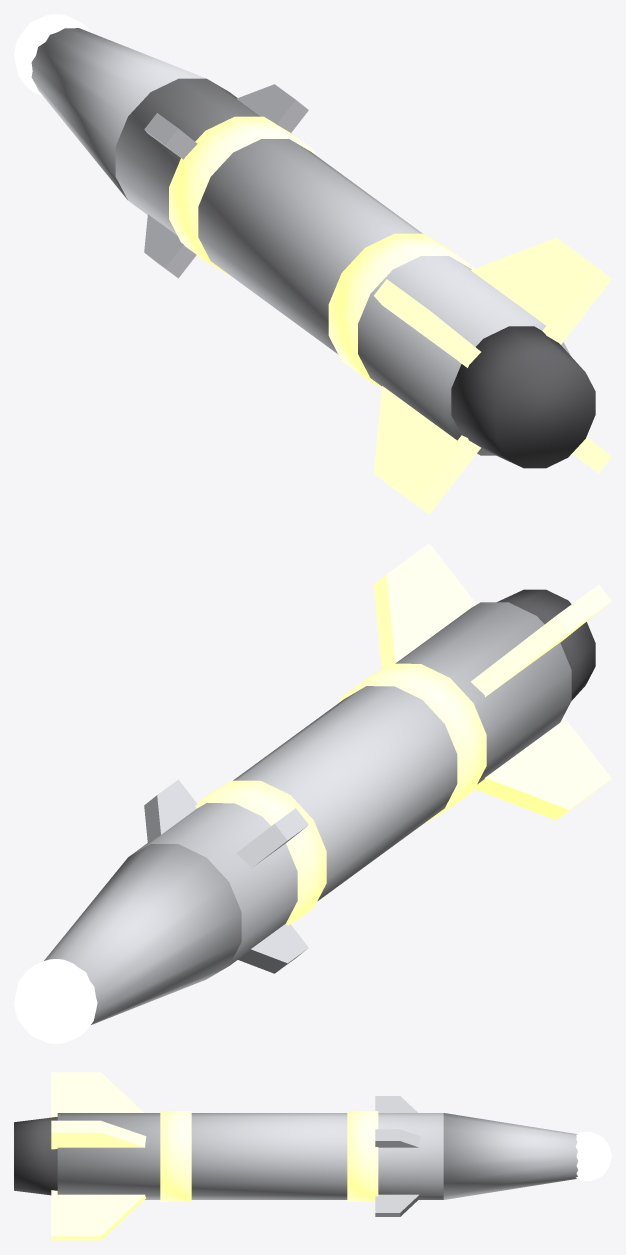
File: rakete_zielsuch.glb
3 renders of one model, top to bottom at view 1: azimuth 30°, elevation 25°; view 2: azimuth 150°, elevation 25°; view 3: azimuth 270°, elevation 25°, orthographic. The views are drawn at different scales.
Visible parts, largest first — view 1: Rumpf, Duese, Nase, Flosse0, Flosse2, Band2, Band1, Flosse1, Sucherkopf, Flosse0.001, Flosse2.001, Flosse1.001 (+1 smaller); view 2: Rumpf, Nase, Flosse0, Flosse2, Band2, Sucherkopf, Band1, Flosse1, Duese, Flosse0.001, Flosse2.001, Flosse1.001; view 3: Rumpf, Nase, Flosse3, Duese, Flosse1, Band2, Band1, Flosse0, Sucherkopf, Flosse3.001, Flosse0.001, Flosse1.001.
Part boxes in pixels (x1,y1,x2,y2): Rumpf: (115, 78, 570, 455); Duese: (451, 326, 595, 468); Nase: (31, 28, 206, 199); Flosse0: (471, 237, 611, 344); Flosse2: (373, 386, 480, 514); Band2: (328, 233, 474, 388); Band1: (169, 116, 316, 277); Flosse1: (374, 279, 480, 367); Sucherkopf: (14, 14, 89, 96); Flosse0.001: (236, 84, 308, 132); Flosse2.001: (144, 214, 196, 278); Flosse1.001: (144, 113, 197, 159); Rumpf: (130, 602, 571, 965); Nase: (44, 844, 241, 1024); Flosse0: (373, 543, 476, 669); Flosse2: (475, 716, 611, 820); Band2: (339, 663, 486, 824); Sucherkopf: (14, 959, 97, 1043); Band1: (195, 780, 326, 925); Flosse1: (471, 584, 611, 696); Duese: (497, 589, 595, 700); Flosse0.001: (144, 779, 197, 842); Flosse2.001: (238, 923, 308, 973); Flosse1.001: (236, 808, 308, 868); Rumpf: (57, 1113, 443, 1199); Nase: (443, 1113, 577, 1199); Flosse3: (51, 1190, 145, 1240); Duese: (14, 1117, 57, 1195); Flosse1: (51, 1072, 143, 1117); Band2: (160, 1111, 191, 1201); Band1: (347, 1111, 378, 1201); Flosse0: (51, 1120, 146, 1149); Sucherkopf: (575, 1131, 611, 1181); Flosse3.001: (375, 1194, 419, 1216); Flosse0.001: (375, 1129, 420, 1147); Flosse1.001: (375, 1096, 417, 1112).
Size of the model in its own units: 0.2121 by 0.2121 by 0.96.
